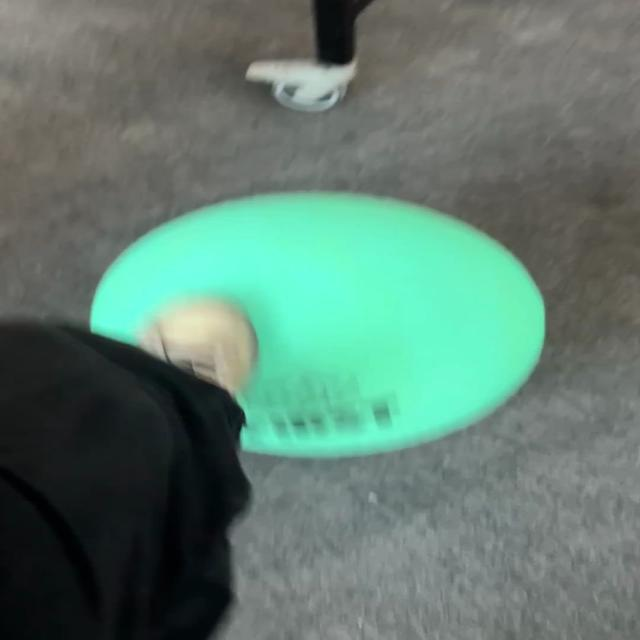Algae: (87, 189, 547, 459)
